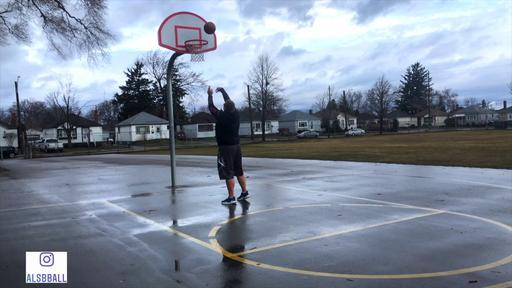ball: (204, 22, 216, 34)
human: (208, 86, 252, 205)
rim: (184, 39, 208, 62)
